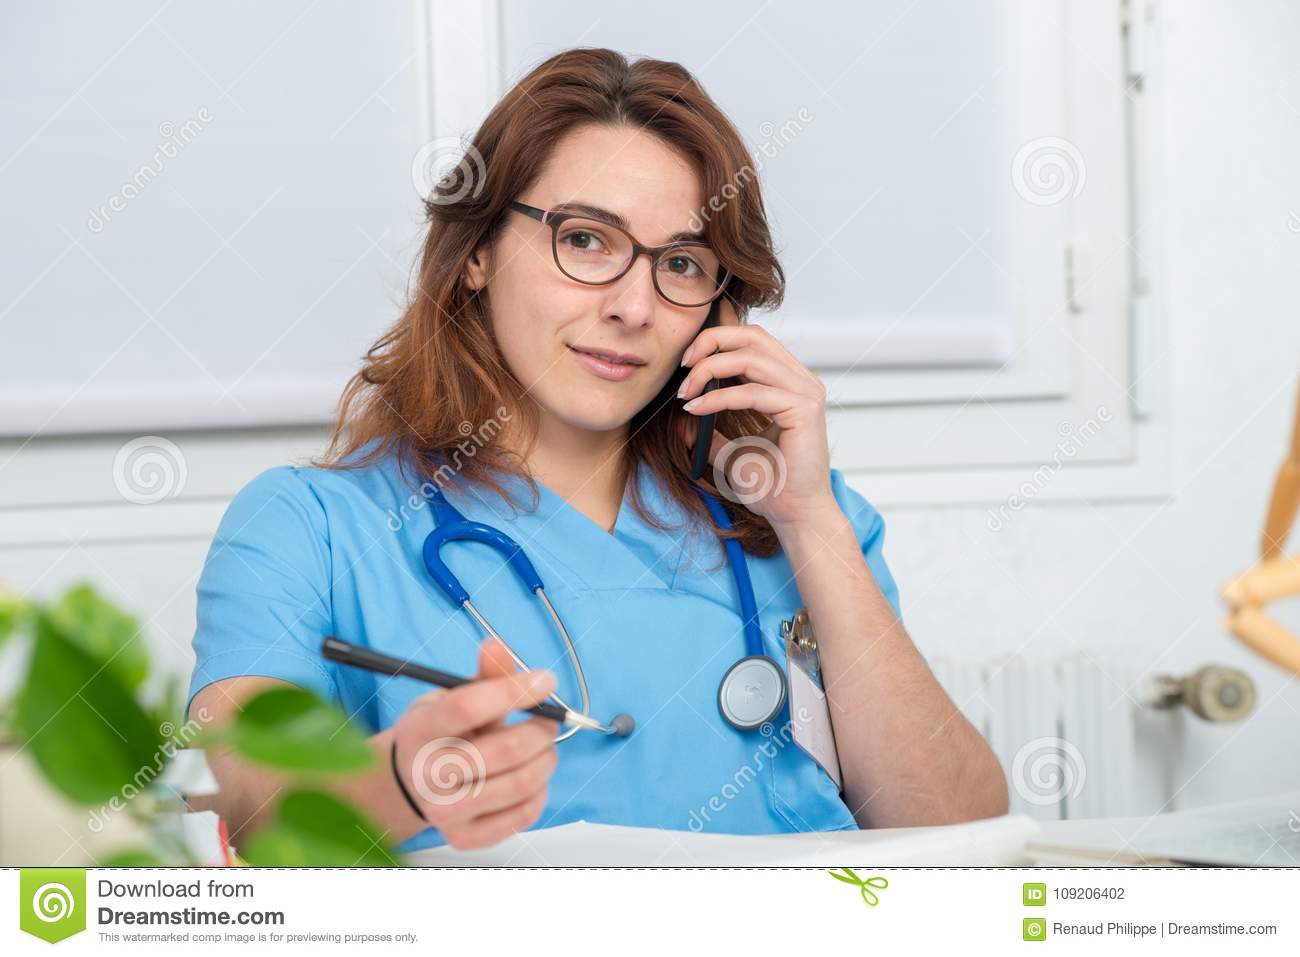phone: (683, 279, 733, 485)
talk: (522, 198, 844, 539)
